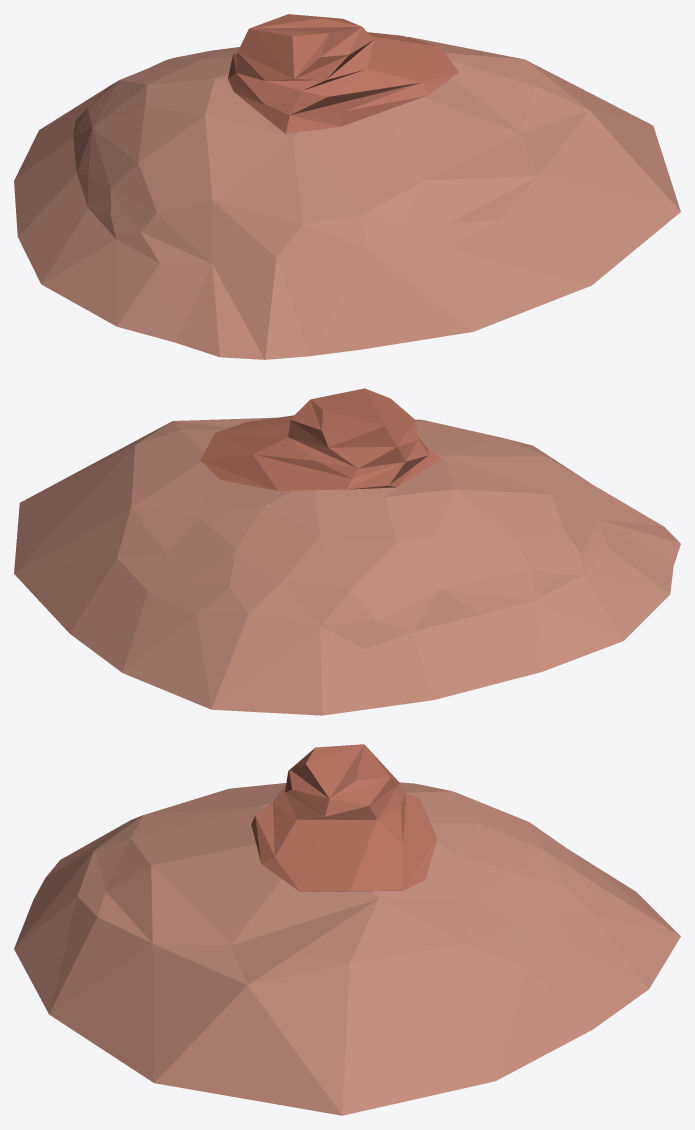
File: rock_018.fbx
The picture shows the model from 3 angles, top to bottom: view 1: azimuth 30°, elevation 25°; view 2: azimuth 150°, elevation 25°; view 3: azimuth 270°, elevation 25°; orthographic projection. The views are drawn at different scales.
Parts seen in each view (by area): view 1: rock_018; view 2: rock_018; view 3: rock_018.
Boxes of the visible parts, x1=… form: rock_018: x1=14, y1=14, x2=680, y2=359; rock_018: x1=14, y1=388, x2=680, y2=715; rock_018: x1=14, y1=744, x2=680, y2=1115.
Bounding box in the file's own units: 1153 × 1085 × 338.
